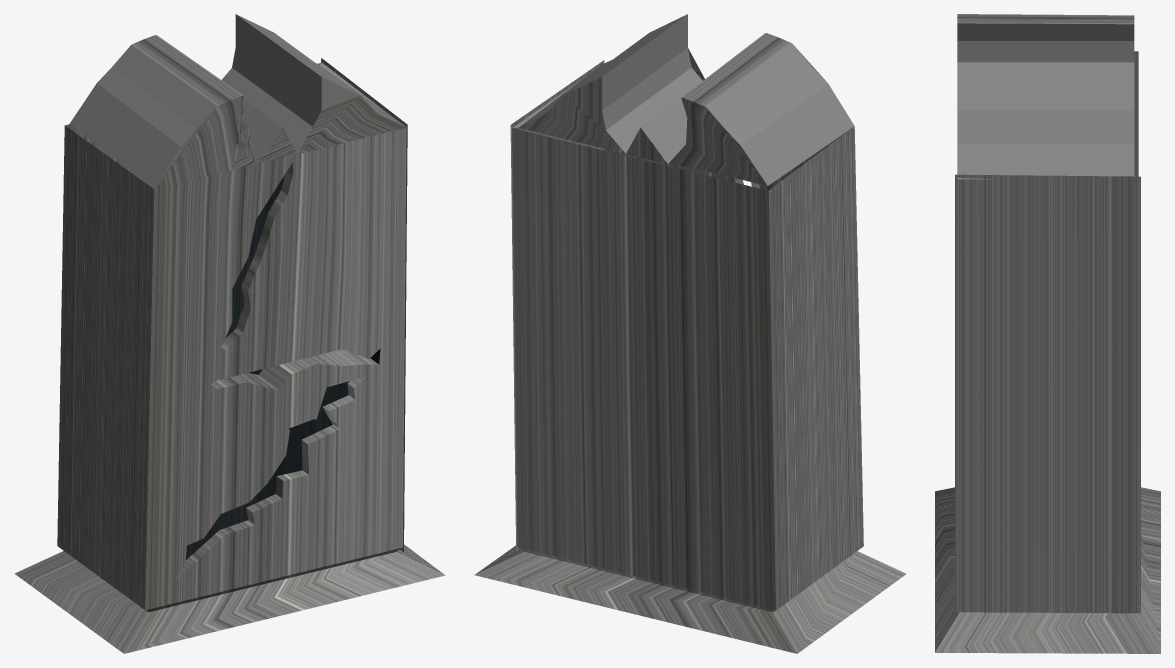
The model's file is tomb1.fbx.
The picture shows the model from 3 angles, left to right: view 1: azimuth 30°, elevation 25°; view 2: azimuth 150°, elevation 25°; view 3: azimuth 270°, elevation 25°; orthographic projection. The views are drawn at different scales.
Parts seen in each view (by area): view 1: Plane.013; view 2: Plane.013; view 3: Plane.013.
Boxes of the visible parts, left/top/right/bottom form: Plane.013: left=14, top=14, right=445, bottom=653; Plane.013: left=474, top=14, right=906, bottom=653; Plane.013: left=935, top=14, right=1160, bottom=653.
Size of the model in its own units: 284 by 435 by 167.
